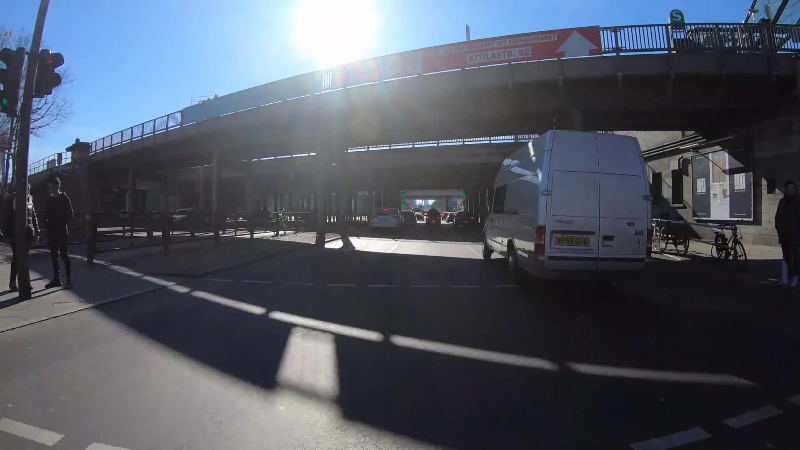Plate: (551, 235, 590, 247)
